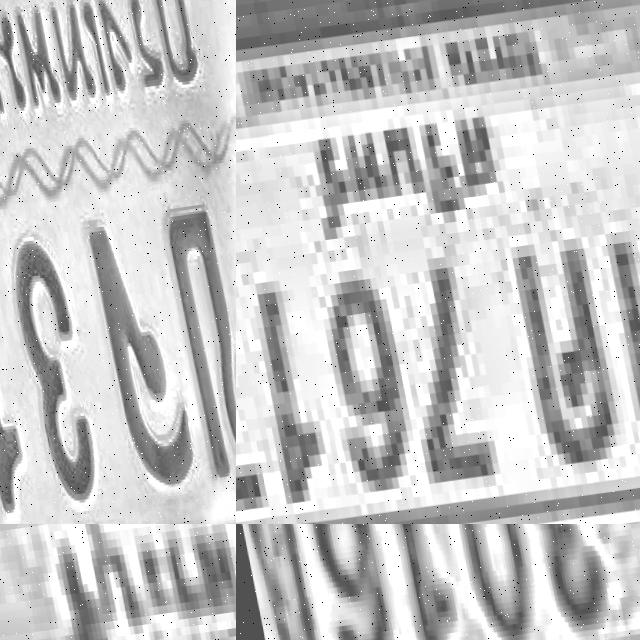license-plate: (236, 0, 640, 524), (0, 0, 236, 524), (236, 524, 640, 640), (0, 524, 236, 640)
